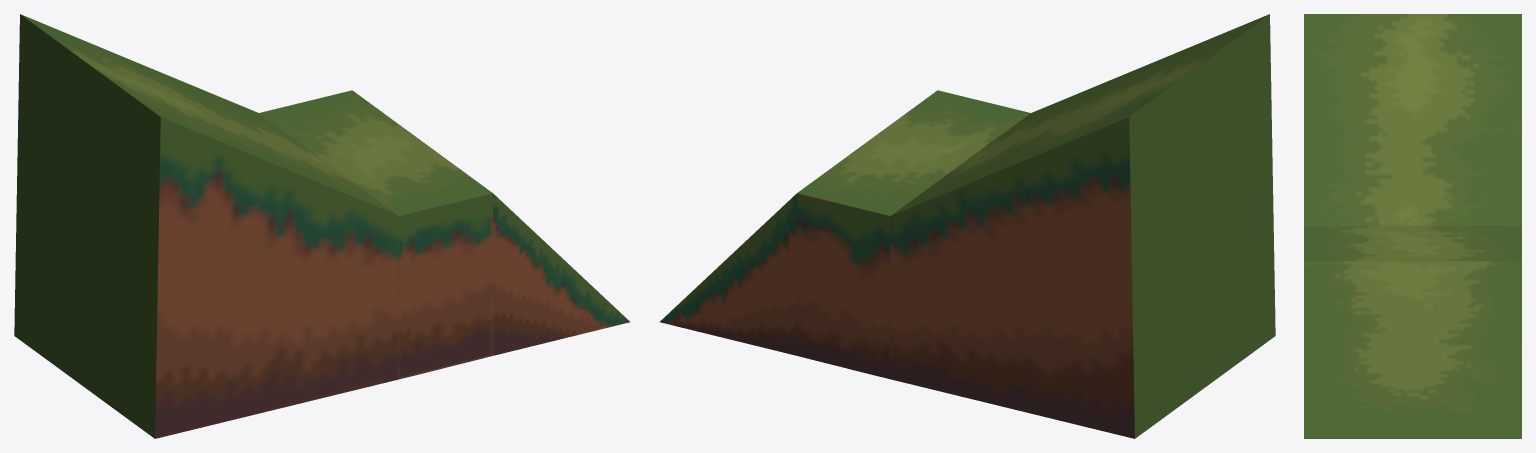
File: Ramp.fbx
The picture shows the model from 3 angles, left to right: view 1: azimuth 30°, elevation 25°; view 2: azimuth 150°, elevation 25°; view 3: azimuth 270°, elevation 25°; orthographic projection. The views are drawn at different scales.
Parts seen in each view (by area): view 1: Environment; view 2: Environment; view 3: Environment.
Boxes of the visible parts, <box> form: Environment: <box>14,14,630,438</box>; Environment: <box>659,14,1275,438</box>; Environment: <box>1304,14,1521,438</box>.
Size of the model in its own units: 1105 by 712 by 566.
